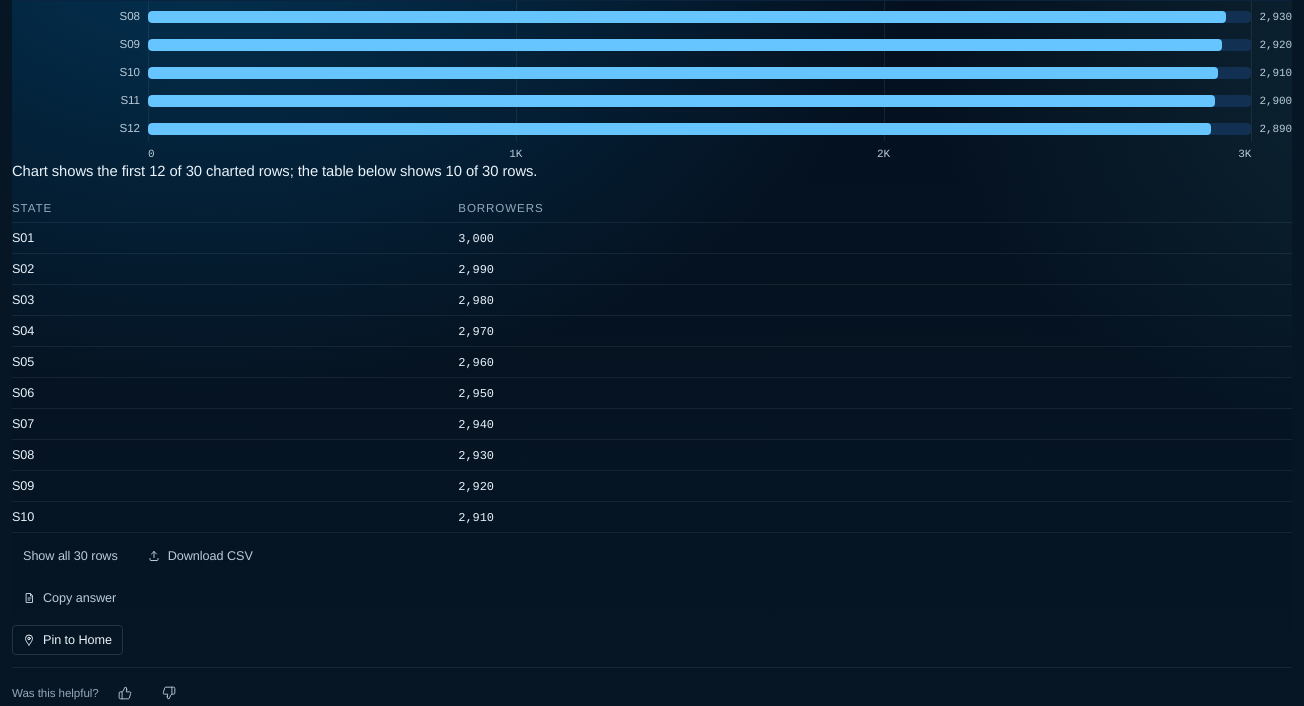
GenieAnswer deep-research sections › says the table below shows every row once a section's Show all is open (genie-06 item 1)
This screenshot has width=1304, height=706.
(page scrolled)
Click the button with class "genie-answer__show-all": (70, 556) x1=12 y1=541 x2=129 y2=571
(page scrolled)
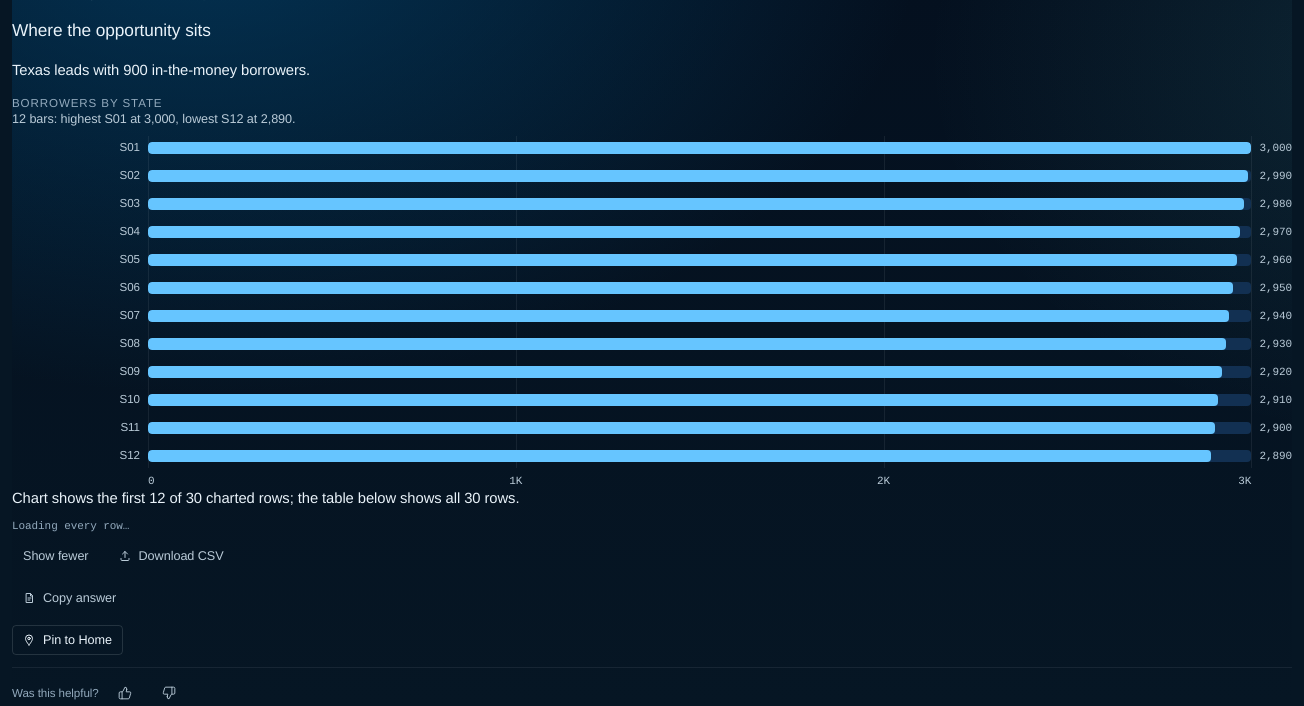
expect the button with class "genie-answer__show-all" is expanded: met
expect the text with class "genie-chart__more" shows "; the table below shows all 30 rows.": met, box x1=12 y1=489 x2=519 y2=507
expect the text with class "genie-chart__more" no longer shows "10 of 30": met
Click the button with class "genie-answer__show-all": (56, 556) x1=12 y1=541 x2=100 y2=571
(page scrolled)
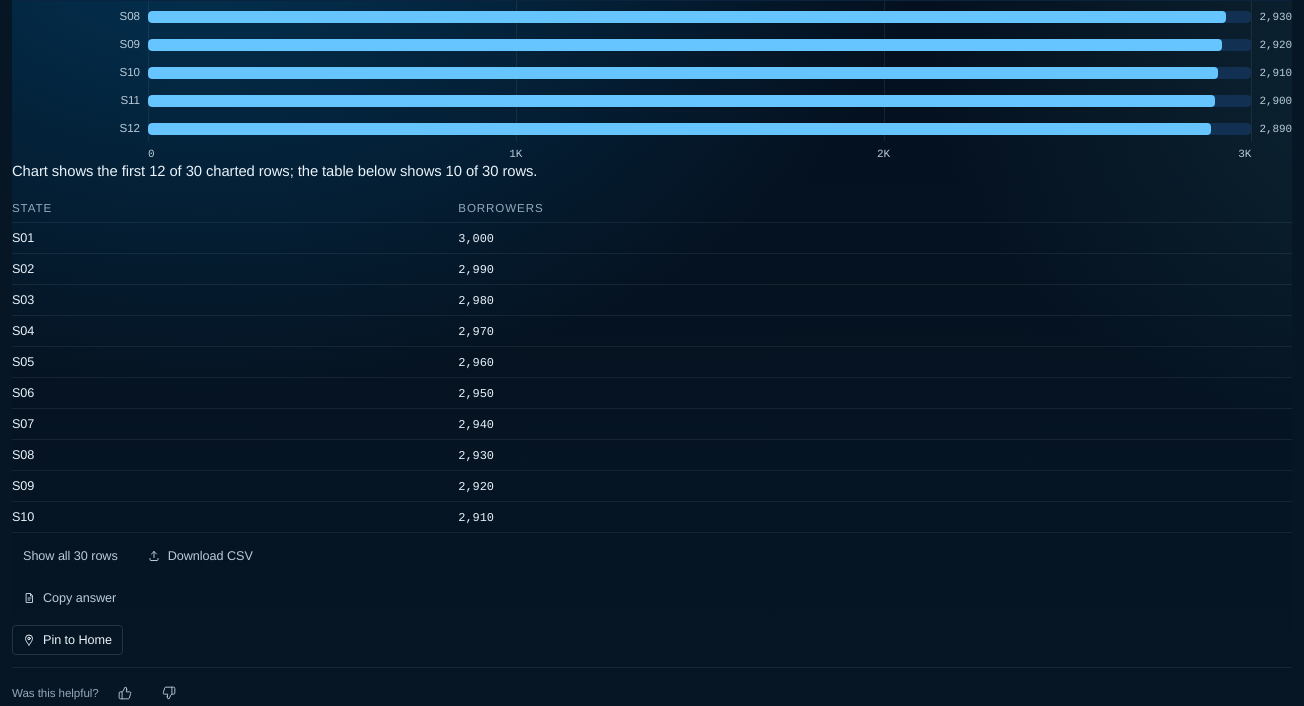
expect the text with class "genie-chart__more" shows "the table below shows 10 of 30 rows": met, box x1=12 y1=162 x2=537 y2=180
